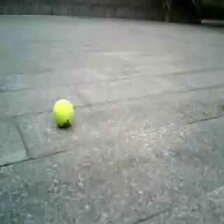tennis: (54, 99, 74, 125)
